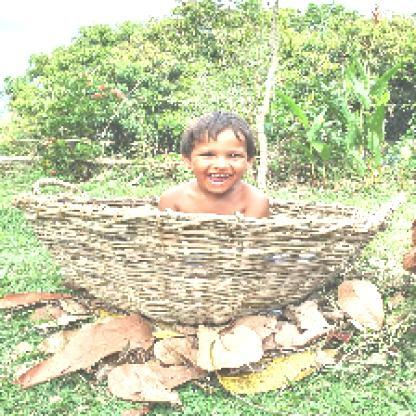child: (154, 111, 271, 217)
